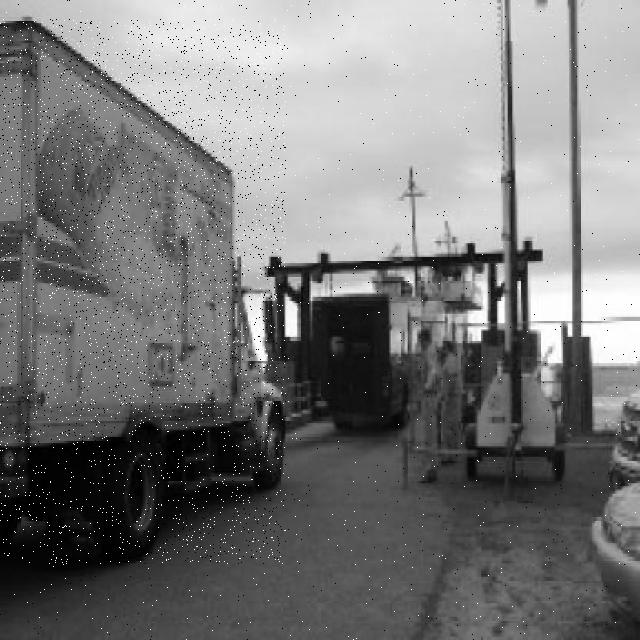Box Truck: (0, 19, 286, 565)
